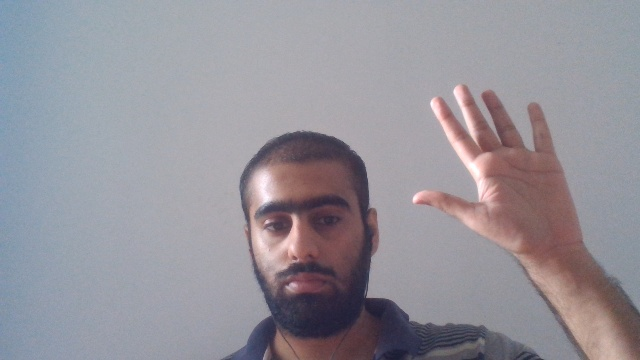paper: (411, 82, 584, 258)
